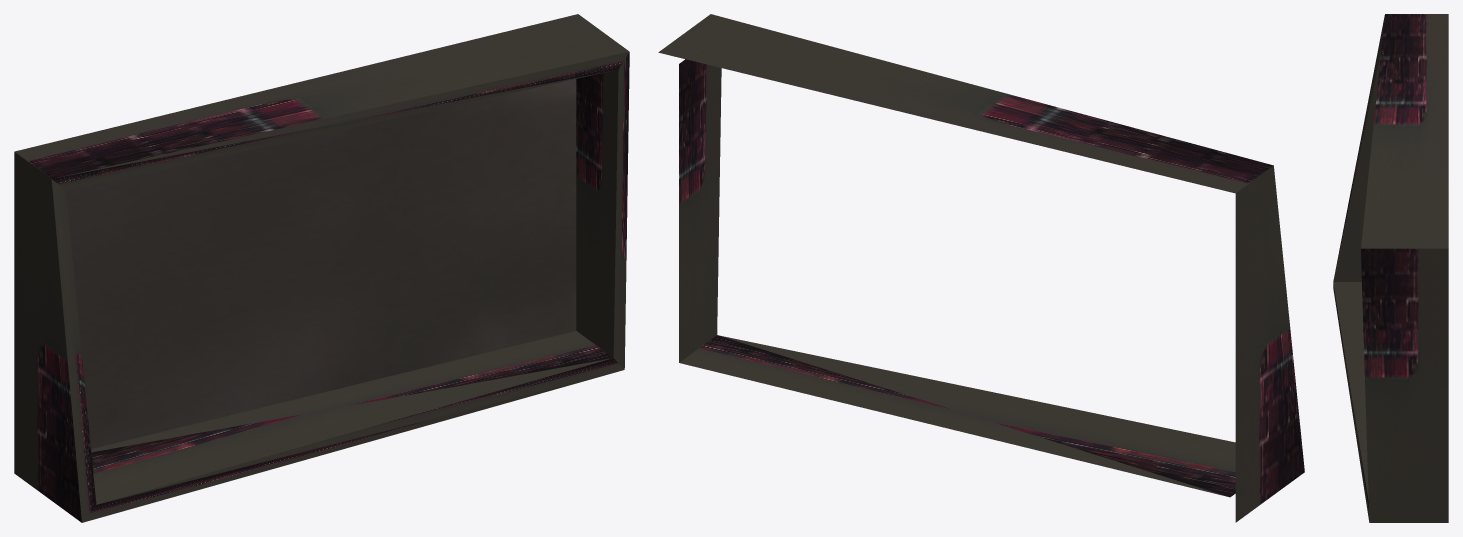
The model's file is deserthouse1burn.gltf.
3 renders of one model, left to right at view 1: azimuth 30°, elevation 25°; view 2: azimuth 150°, elevation 25°; view 3: azimuth 270°, elevation 25°, orthographic. The views are drawn at different scales.
Parts seen in each view (by area): view 1: deserthouse1burn_atomic0; view 2: deserthouse1burn_atomic0; view 3: deserthouse1burn_atomic0.
Boxes of the visible parts, x1,y1,x2,y2 form: deserthouse1burn_atomic0: (14,14,629,522); deserthouse1burn_atomic0: (658,14,1304,522); deserthouse1burn_atomic0: (1333,14,1448,522).
Bounding box in the file's own units: 25.06 × 13.66 × 5.21.
Materials: 1 (1 with a texture image).
